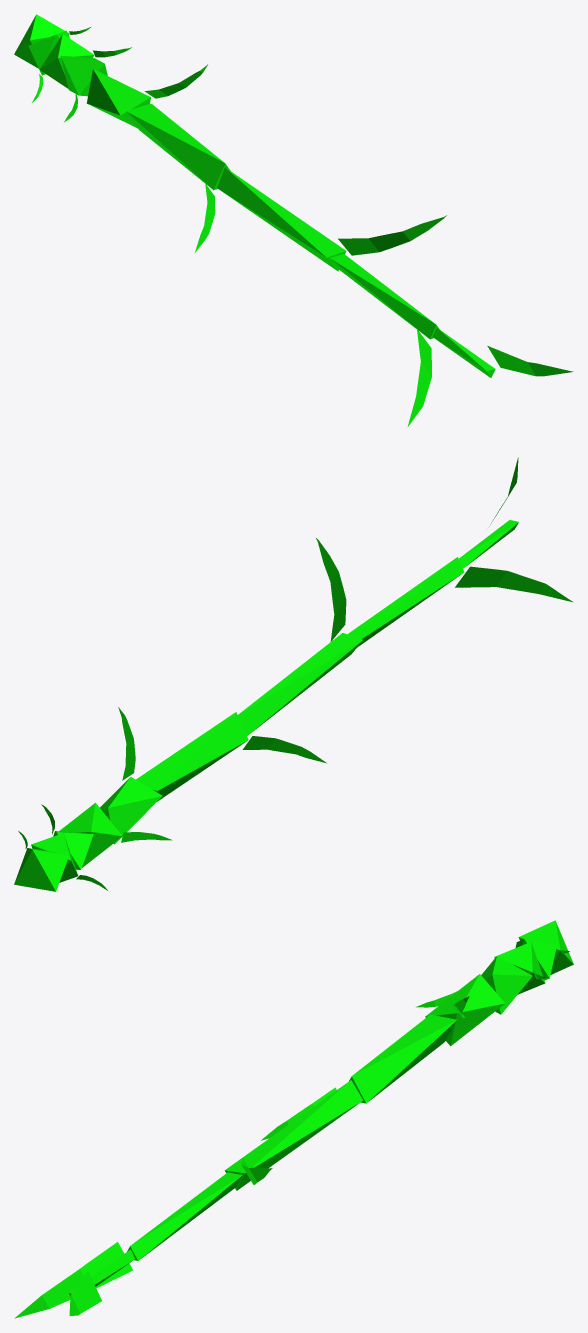
Rendered from usm_6_Beer_2018-07-25_1.obj.
3 views of the same model, one above another, from view 1: azimuth 30°, elevation 25°; view 2: azimuth 150°, elevation 25°; view 3: azimuth 330°, elevation 25° (orthographic). The views are drawn at different scales.
Parts seen in each view (by area): view 1: vid_15, vid_13, vid_17, vid_11, vid_16, vid_9, vid_7, vid_3, vid_18, vid_20, vid_19, vid_5; view 2: vid_13, vid_15, vid_17, vid_11, vid_3, vid_18, vid_9, vid_16, vid_14, vid_5, vid_19, vid_7 (+1 smaller); view 3: vid_13, vid_15, vid_17, vid_11, vid_18, vid_9, vid_3, vid_7, vid_20, vid_5, vid_19.
Boxes of the visible parts, x1,y1,x2,y2 form: vid_15: [217, 167, 346, 271]; vid_13: [126, 103, 230, 190]; vid_17: [330, 254, 439, 339]; vid_11: [86, 69, 150, 128]; vid_16: [338, 215, 446, 255]; vid_9: [60, 55, 107, 96]; vid_7: [39, 34, 94, 88]; vid_3: [14, 14, 69, 68]; vid_18: [407, 329, 431, 426]; vid_20: [487, 346, 573, 376]; vid_19: [432, 328, 495, 377]; vid_5: [28, 30, 69, 75]; vid_13: [136, 712, 248, 801]; vid_15: [238, 633, 362, 735]; vid_17: [348, 557, 464, 647]; vid_11: [100, 777, 162, 844]; vid_3: [14, 848, 69, 891]; vid_18: [455, 566, 573, 602]; vid_9: [59, 803, 122, 867]; vid_16: [316, 538, 346, 641]; vid_14: [242, 736, 326, 763]; vid_5: [31, 833, 78, 882]; vid_19: [459, 520, 518, 568]; vid_7: [53, 831, 93, 869]; vid_13: [349, 1014, 456, 1103]; vid_15: [224, 1080, 363, 1190]; vid_17: [127, 1172, 242, 1260]; vid_11: [425, 974, 505, 1046]; vid_18: [14, 1242, 132, 1318]; vid_9: [481, 956, 532, 1014]; vid_3: [518, 920, 573, 974]; vid_7: [494, 942, 545, 994]; vid_20: [69, 1271, 101, 1316]; vid_5: [515, 939, 556, 980]; vid_19: [69, 1249, 134, 1296].
Bounding box in the file's own units: 15.42 × 10.74 × 93.42.
